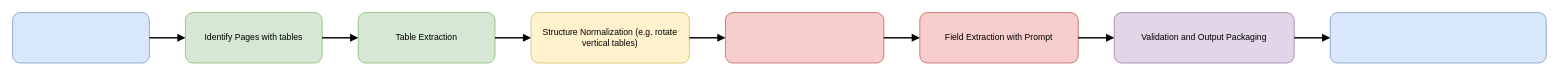
The diagram is 1559 pixels wide and 76 high, and some of its shapes have lost their labels. The shapes that lost their labels are listed below. From the top down, each one's box as (x1, y1, x2, y2) in pixels, then its label:
(12, 12, 149, 63): Annual Reclamation Report
(725, 12, 884, 63): Table Selection with Prompt
(1329, 12, 1546, 63): Structured Data (JSON/CSV) + Review Artifacts
